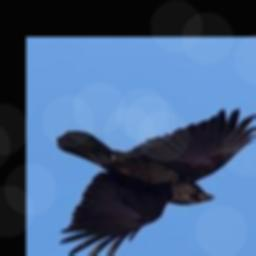Crow: (55, 110, 256, 256)
